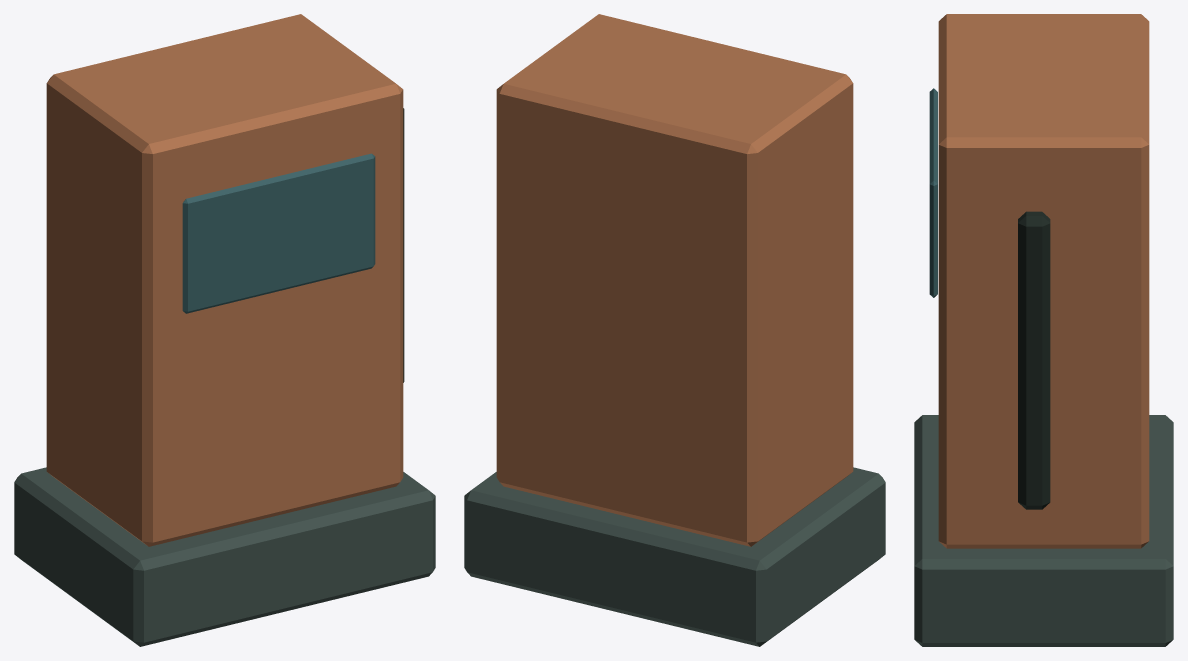
The model's file is fuel_pump.glb.
The picture shows the model from 3 angles, left to right: view 1: azimuth 30°, elevation 25°; view 2: azimuth 150°, elevation 25°; view 3: azimuth 270°, elevation 25°; orthographic projection. The views are drawn at different scales.
Visible parts, largest first — view 1: fuel_pump.001; view 2: fuel_pump.001; view 3: fuel_pump.001.
Part boxes in pixels (<box>): fuel_pump.001: <box>14,14,435,646</box>; fuel_pump.001: <box>464,14,885,646</box>; fuel_pump.001: <box>914,14,1173,646</box>.
Bounding box in the file's own units: 1.17 × 1.7 × 0.8.
